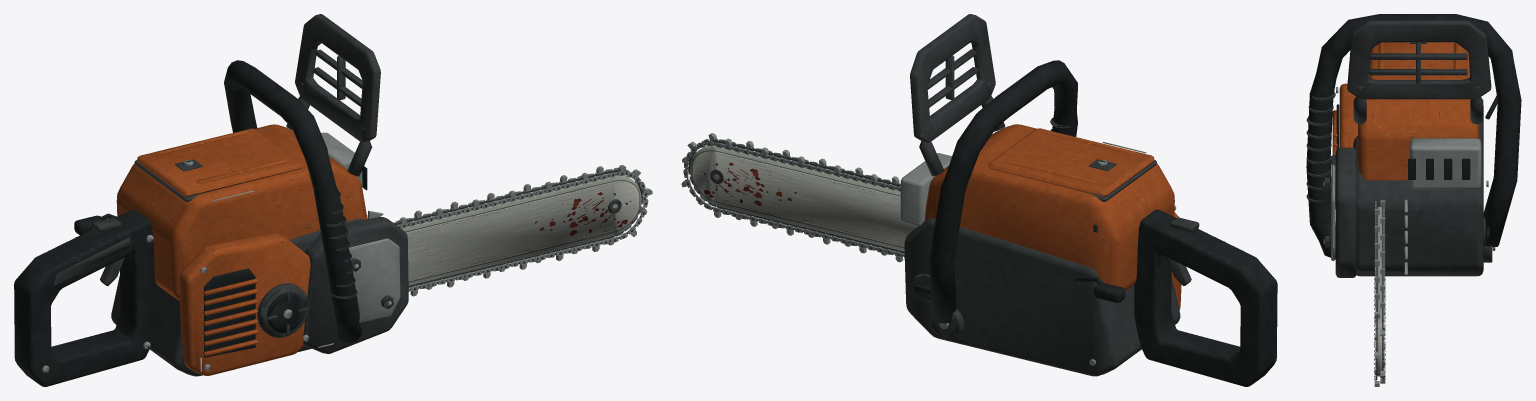
Rendered from chainsaw.glb.
3 views of the same model, side by side, from view 1: azimuth 30°, elevation 25°; view 2: azimuth 150°, elevation 25°; view 3: azimuth 270°, elevation 25° (orthographic). The views are drawn at different scales.
Parts seen in each view (by area): view 1: powerhead, rear_handle, guidebar, front_handle, clutch_cover, front_guard, chain, hardware, trigger; view 2: powerhead, rear_handle, guidebar, front_handle, front_guard, chain, hardware, trigger; view 3: powerhead, front_handle, front_guard, hardware, clutch_cover, chain, guidebar.
Part boxes in pixels (<box>): powerhead: <box>111,124,370,376</box>; rear_handle: <box>14,209,157,386</box>; guidebar: <box>402,175,641,285</box>; front_handle: <box>224,60,361,342</box>; clutch_cover: <box>303,210,408,353</box>; front_guard: <box>286,14,380,176</box>; chain: <box>393,165,652,296</box>; hardware: <box>74,132,367,370</box>; trigger: <box>92,217,124,286</box>; powerhead: <box>904,124,1181,376</box>; rear_handle: <box>1134,209,1277,386</box>; guidebar: <box>690,145,917,251</box>; front_handle: <box>929,60,1077,338</box>; front_guard: <box>910,14,1005,176</box>; chain: <box>681,133,904,262</box>; hardware: <box>900,153,1176,365</box>; trigger: <box>1166,217,1199,285</box>; powerhead: <box>1331,42,1483,276</box>; front_handle: <box>1306,14,1521,262</box>; front_guard: <box>1347,20,1491,124</box>; hardware: <box>1330,42,1497,246</box>; clutch_cover: <box>1323,147,1407,277</box>; chain: <box>1374,200,1385,386</box>; guidebar: <box>1377,207,1382,376</box>.
Bounding box in the file's own units: 0.8175 × 0.356 × 0.262.
7 materials, 6 textured.
